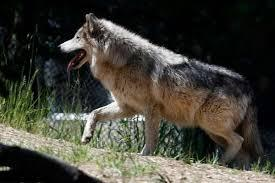Wolf: (57, 11, 270, 176)
